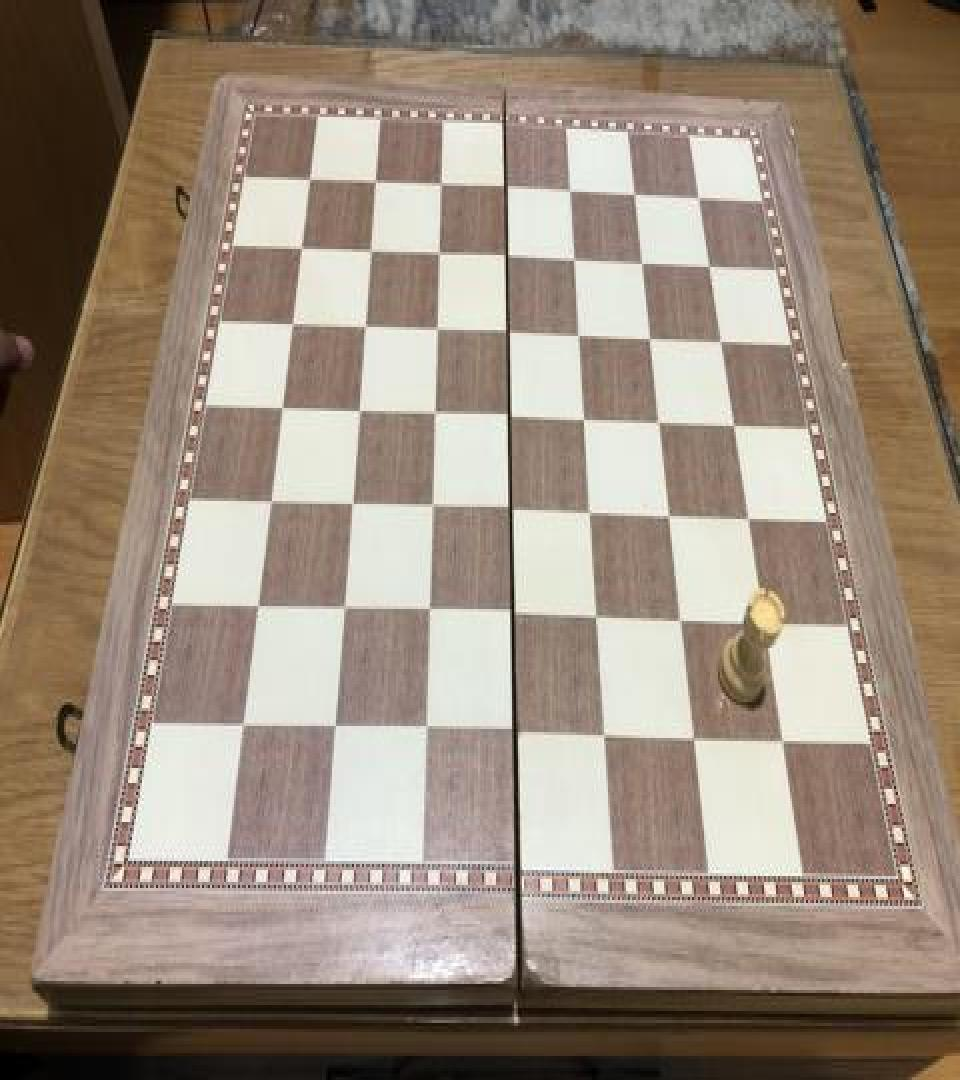xcorner: (588, 601, 612, 638), (419, 595, 443, 632), (506, 718, 530, 755), (325, 712, 349, 749), (688, 178, 712, 214), (624, 176, 648, 212), (495, 170, 519, 206), (430, 166, 454, 202), (365, 164, 389, 200), (299, 160, 323, 196), (699, 248, 723, 284), (632, 244, 656, 280), (564, 242, 588, 278), (496, 238, 520, 274), (428, 236, 452, 272), (360, 232, 384, 268), (291, 230, 315, 266), (711, 322, 735, 358), (640, 321, 664, 357), (569, 318, 593, 354), (498, 315, 522, 351), (426, 312, 450, 348), (354, 309, 378, 345), (282, 306, 306, 342), (724, 408, 748, 444), (650, 405, 674, 441), (575, 402, 599, 438), (499, 399, 523, 435), (424, 396, 448, 432), (348, 393, 372, 429), (272, 390, 296, 426), (739, 501, 763, 537), (660, 500, 684, 536), (581, 496, 605, 532), (501, 494, 525, 530), (421, 490, 445, 526), (341, 488, 365, 524), (260, 484, 284, 520), (755, 608, 779, 644), (672, 604, 696, 640), (503, 598, 527, 634), (333, 592, 357, 628), (248, 591, 272, 627), (774, 726, 798, 762), (685, 723, 709, 759), (596, 722, 620, 758), (415, 716, 439, 752), (233, 710, 257, 746), (560, 173, 584, 208)
